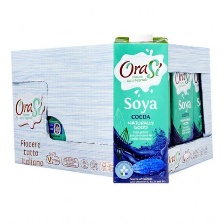carton: (107, 25, 187, 191)
